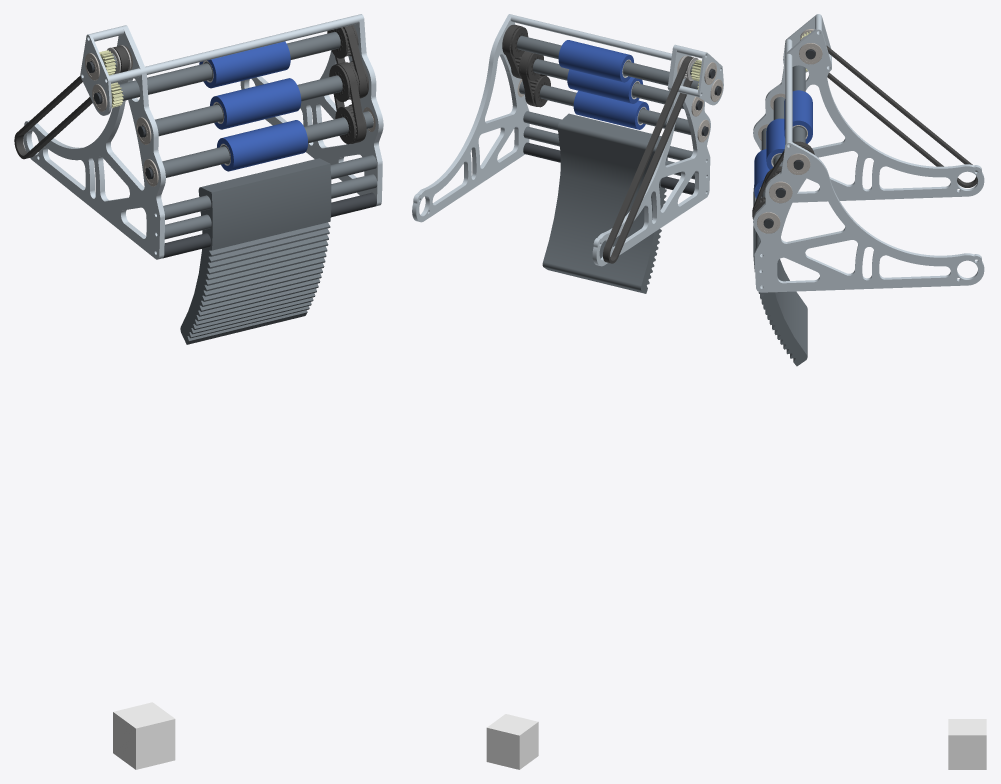
The model's file is CITRUS_TURRET_HOOD.dae.
The picture shows the model from 3 angles, left to right: view 1: azimuth 30°, elevation 25°; view 2: azimuth 150°, elevation 25°; view 3: azimuth 270°, elevation 25°; orthographic projection. The views are drawn at different scales.
Visible parts, largest first — view 1: 1678-22-P-0909, 1678-22-P-0902, 2477K22_Abrasion-Resistant Roller (×9), 1678-22-A-0900 <1>, 1678-22-P-0903, Part 24, Gear Standoffs (×4), 1678-22-P-0908, 130 t belt, 45 t belt (×2), 1678-22-P-0913 (×2), 1678-22-P-0901; view 2: 1678-22-P-0909, 1678-22-P-0903, 1678-22-P-0902, 2477K22_Abrasion-Resistant Roller (×5), 130 t belt, 1678-22-A-0900 <1>, Part 24, 1678-22-P-0908, 1678-22-P-0901; view 3: 1678-22-P-0903, 1678-22-P-0902, 1678-22-P-0909, Part 24, 130 t belt, 1678-22-A-0900 <1>, 1678-22-P-0908, 1678-22-P-0901, 2477K22_Abrasion-Resistant Roller.
Part boxes in pixels (x1,y1,x2,y2): 1678-22-P-0909: (180,158,331,344); 1678-22-P-0902: (23,25,165,259); 2477K22_Abrasion-Resistant Roller (×9): (199,41,307,171); 1678-22-A-0900 <1>: (119,38,328,177); 1678-22-P-0903: (240,14,383,206); Part 24: (113,702,175,769); Gear Standoffs (×4): (163,155,377,239); 1678-22-P-0908: (145,15,359,74); 130 t belt: (14,46,128,159); 45 t belt (×2): (334,25,366,143); 1678-22-P-0913 (×2): (163,192,376,258); 1678-22-P-0901: (80,34,111,115); 1678-22-P-0909: (542,113,667,293); 1678-22-P-0903: (412,14,529,222); 1678-22-P-0902: (592,44,710,266); 2477K22_Abrasion-Resistant Roller (×5): (558,40,649,129); 130 t belt: (603,56,693,263); 1678-22-A-0900 <1>: (539,41,699,134); Part 24: (486,714,538,769); 1678-22-P-0908: (511,15,671,60); 1678-22-P-0901: (697,52,723,105); 1678-22-P-0903: (753,141,984,292); 1678-22-P-0902: (753,27,984,202); 1678-22-P-0909: (753,185,807,366); Part 24: (948,719,986,769); 130 t belt: (826,45,977,187); 1678-22-A-0900 <1>: (761,65,805,197); 1678-22-P-0908: (785,54,792,145); 1678-22-P-0901: (783,14,831,72); 2477K22_Abrasion-Resistant Roller: (784,110,812,143).
Size of the model in its own units: 0.3383 by 0.3111 by 1.01.
